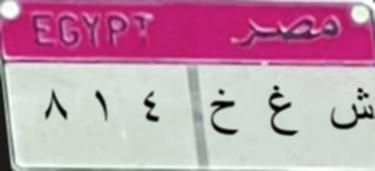1: (92, 86, 113, 130)
4: (138, 87, 169, 129)
8: (41, 84, 72, 127)
ghayn: (261, 82, 302, 148)
khaa: (206, 86, 243, 138)
sheen: (327, 84, 375, 136)
